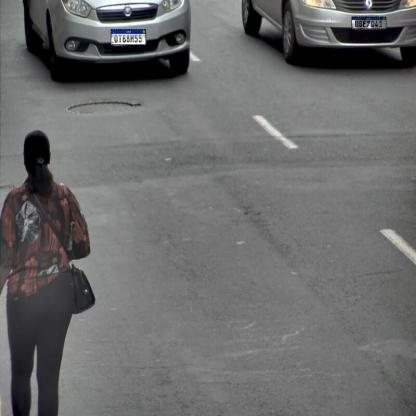PlacaM: (111, 29, 146, 45), (352, 17, 386, 29)
